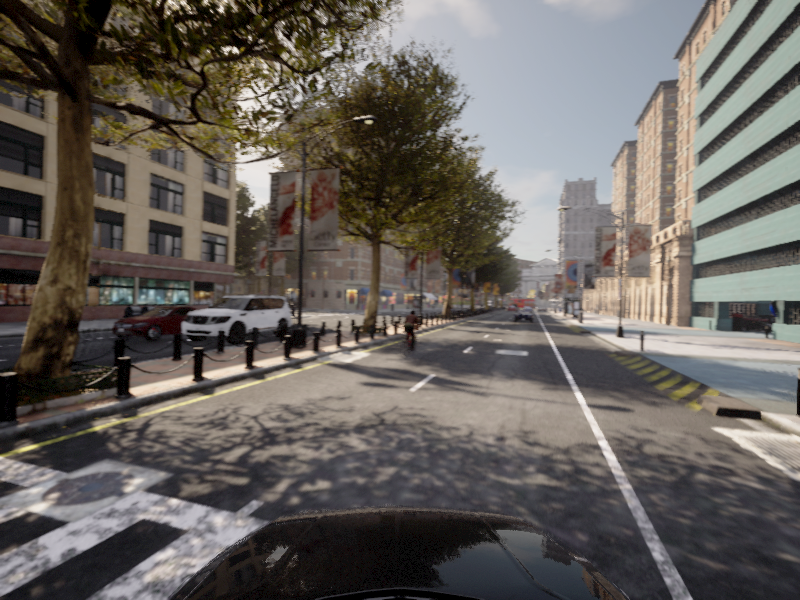vehicle: (174, 292, 297, 347), (104, 304, 224, 343), (395, 310, 424, 357), (513, 309, 533, 322)
